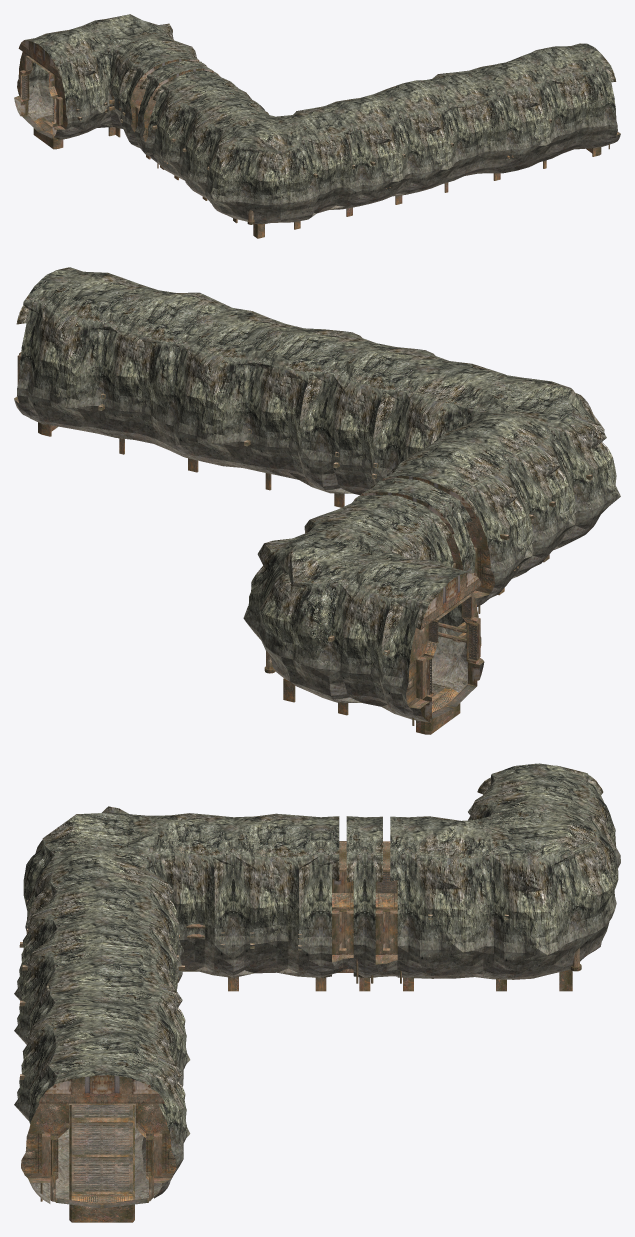
File: poi_all_bunker_allum_mine_r42_hall42_mesh_r42.fbx
3 renders of one model, top to bottom at view 1: azimuth 30°, elevation 25°; view 2: azimuth 150°, elevation 25°; view 3: azimuth 270°, elevation 25°, orthographic. The views are drawn at different scales.
Parts seen in each view (by area): view 1: mesh_node; view 2: mesh_node; view 3: mesh_node.
Boxes of the visible parts, bbox=[...] form: mesh_node: bbox=[14, 14, 620, 238]; mesh_node: bbox=[14, 267, 620, 734]; mesh_node: bbox=[14, 763, 620, 1222].
Bounding box in the file's own units: 34.05 × 7.73 × 27.75.
